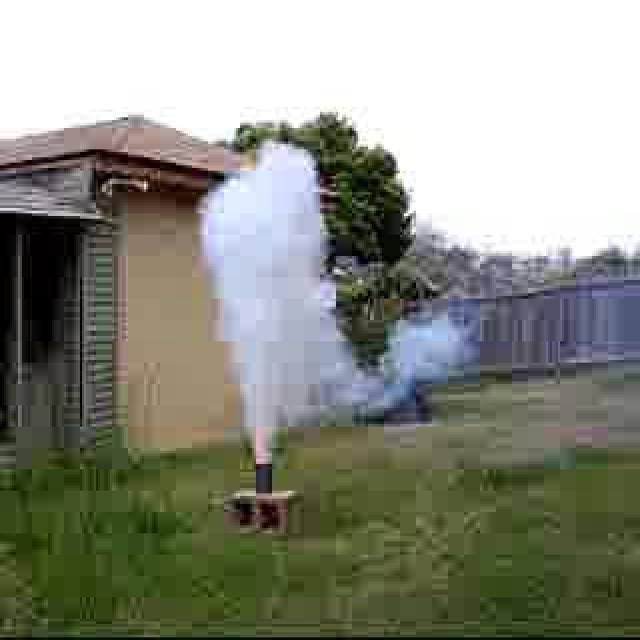smoke: (168, 119, 459, 468)
